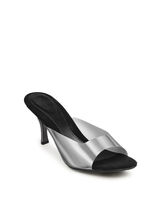shoes: (17, 87, 137, 173)
